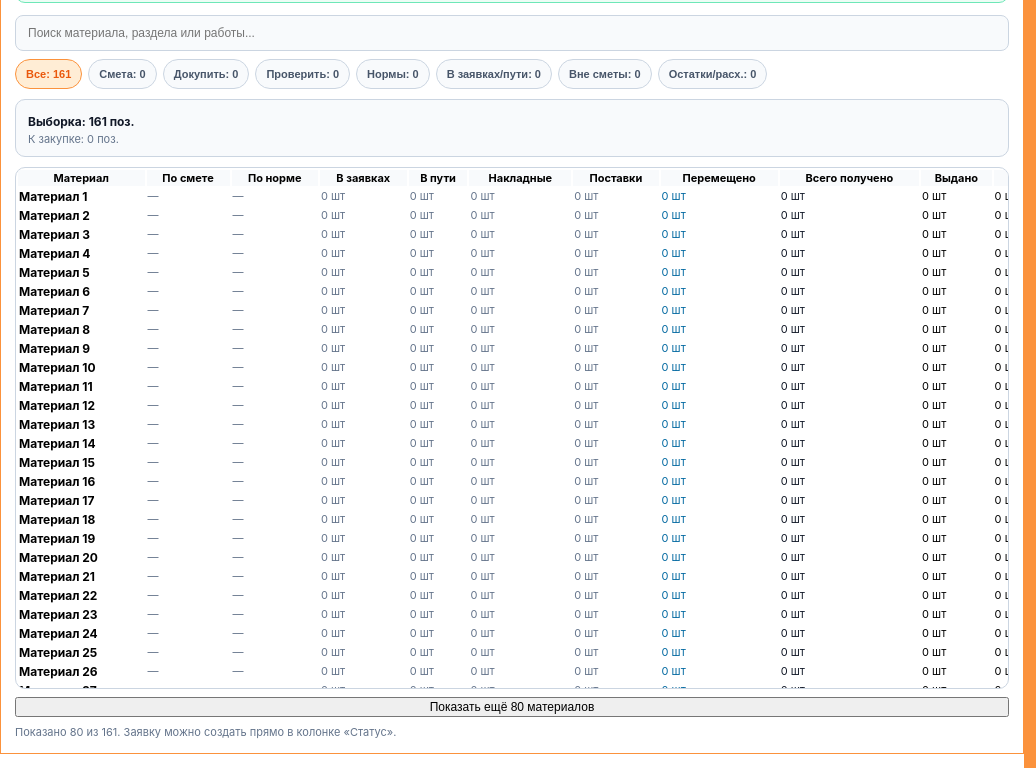
Test: ProjectMaterialsControlPanel pagination › adds a bounded next page instead of rendering every material at once
(page scrolled)
Expected: the text "Показано 80 из 161. Заявку можно создать прямо в колонке «Статус»." is shown, [15,725,396,739]
Click the button "Показать ещё 80 материалов" at (512, 707), box [15,697,1009,717]
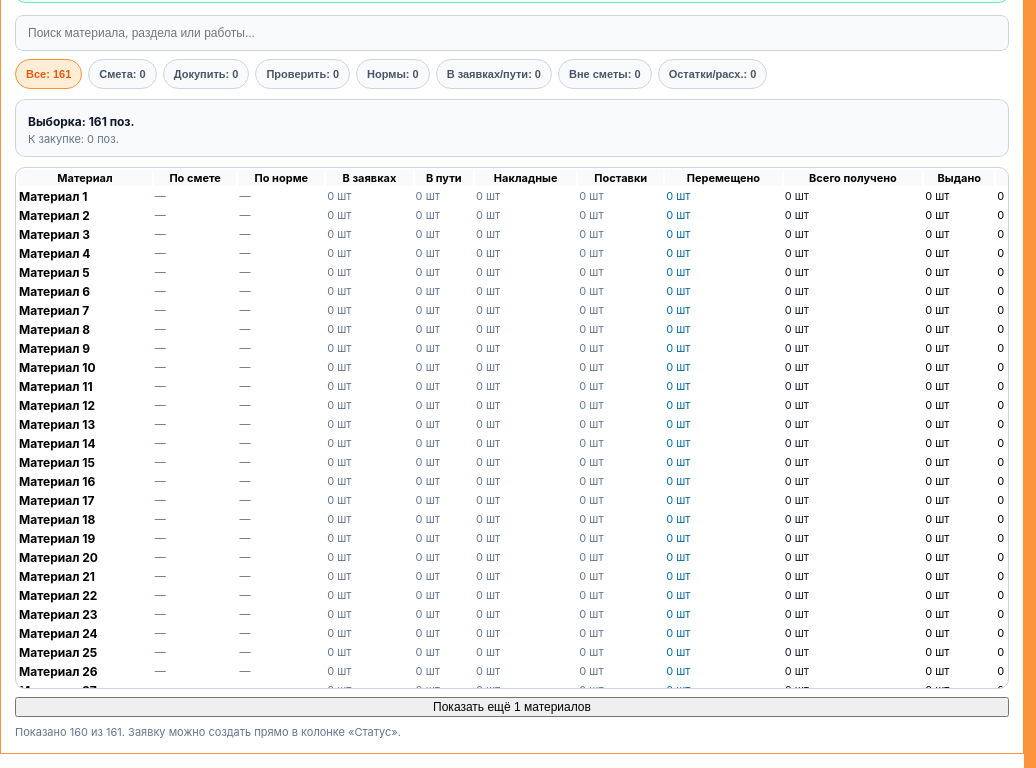
Expected: the text "Показано 160 из 161. Заявку можно создать прямо в колонке «Статус»." is shown, [15,725,401,739]
Expected: the button "Показать ещё 1 материалов" is shown, [15,697,1009,717]
